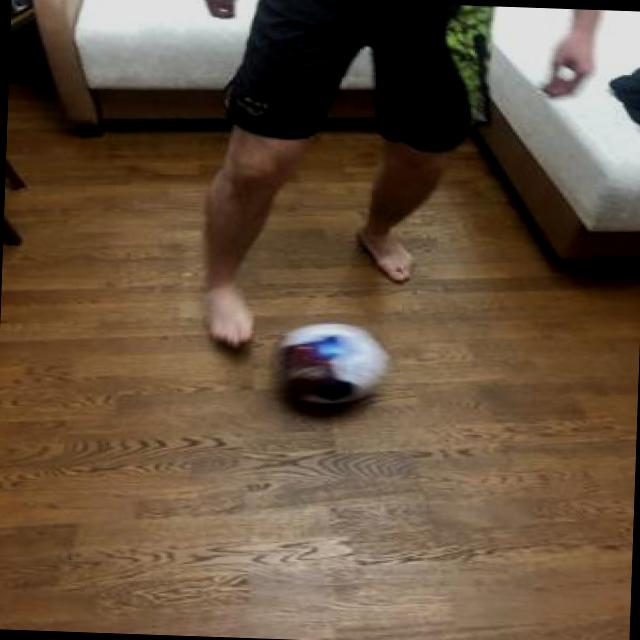Soccer Ball: (273, 317, 397, 409)
